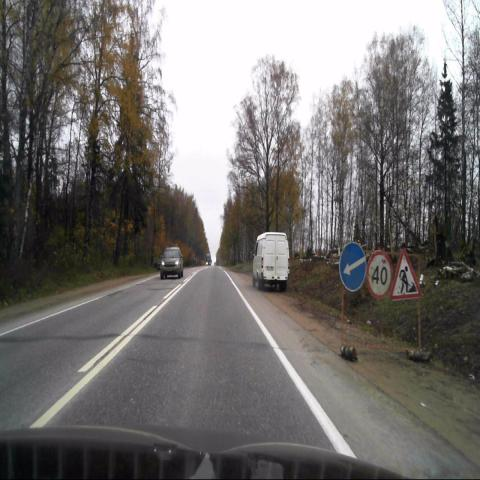4_2_2: (338, 241, 365, 291)
